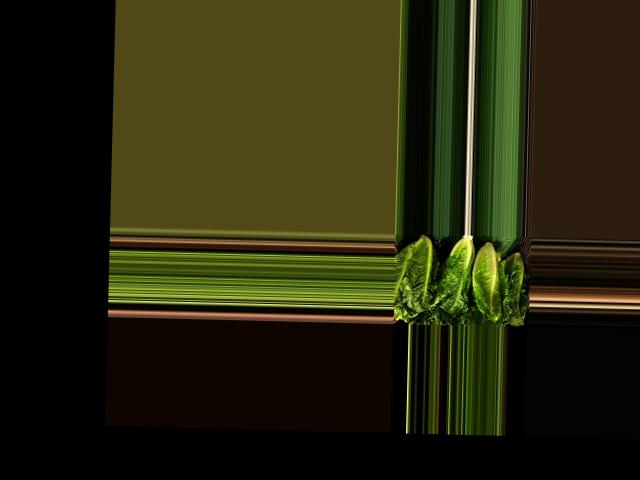lettuce: (501, 254, 524, 326)
